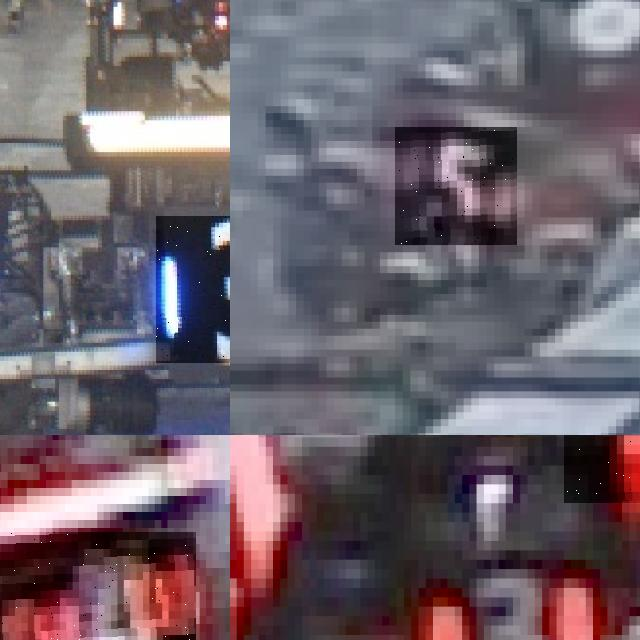B3: (156, 215, 230, 363)
R3: (0, 532, 196, 640), (418, 550, 607, 640), (564, 435, 640, 503)
R5: (395, 127, 517, 245)
